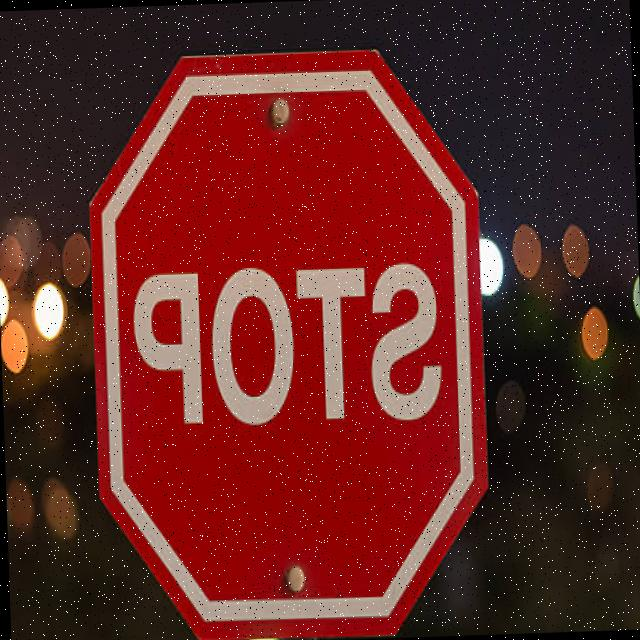stop: (82, 33, 504, 640)
